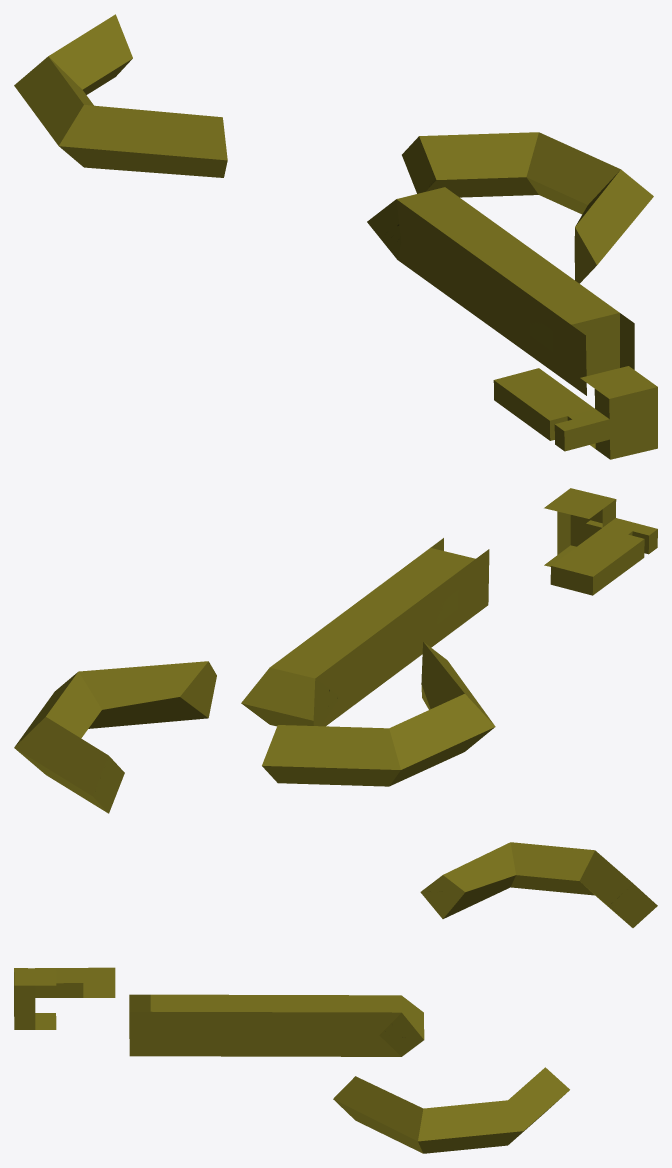
The model's file is Chave Quebrada.fbx.
3 views of the same model, one above another, from view 1: azimuth 30°, elevation 25°; view 2: azimuth 150°, elevation 25°; view 3: azimuth 270°, elevation 25° (orthographic). The views are drawn at different scales.
Parts seen in each view (by area): view 1: Torus.001, Torus.002, Torus.003, Torus.004; view 2: Torus.001, Torus.003, Torus.002, Torus.004; view 3: Torus.001, Torus.002, Torus.003, Torus.004.
Part boxes in pixels (left/top/right/bottom): Torus.001: left=367, top=187, right=634, bottom=395; Torus.002: left=14, top=14, right=227, bottom=177; Torus.003: left=402, top=132, right=653, bottom=283; Torus.004: left=493, top=366, right=657, bottom=459; Torus.001: left=241, top=538, right=489, bottom=726; Torus.003: left=14, top=661, right=216, bottom=813; Torus.002: left=262, top=641, right=495, bottom=786; Torus.004: left=544, top=488, right=657, bottom=595; Torus.001: left=129, top=994, right=424, bottom=1056; Torus.002: left=420, top=842, right=657, bottom=927; Torus.003: left=333, top=1067, right=569, bottom=1153; Torus.004: left=14, top=967, right=115, bottom=1029.
Size of the model in its own units: 446 by 159 by 644.
Materials: 1 (1 with a texture image).
